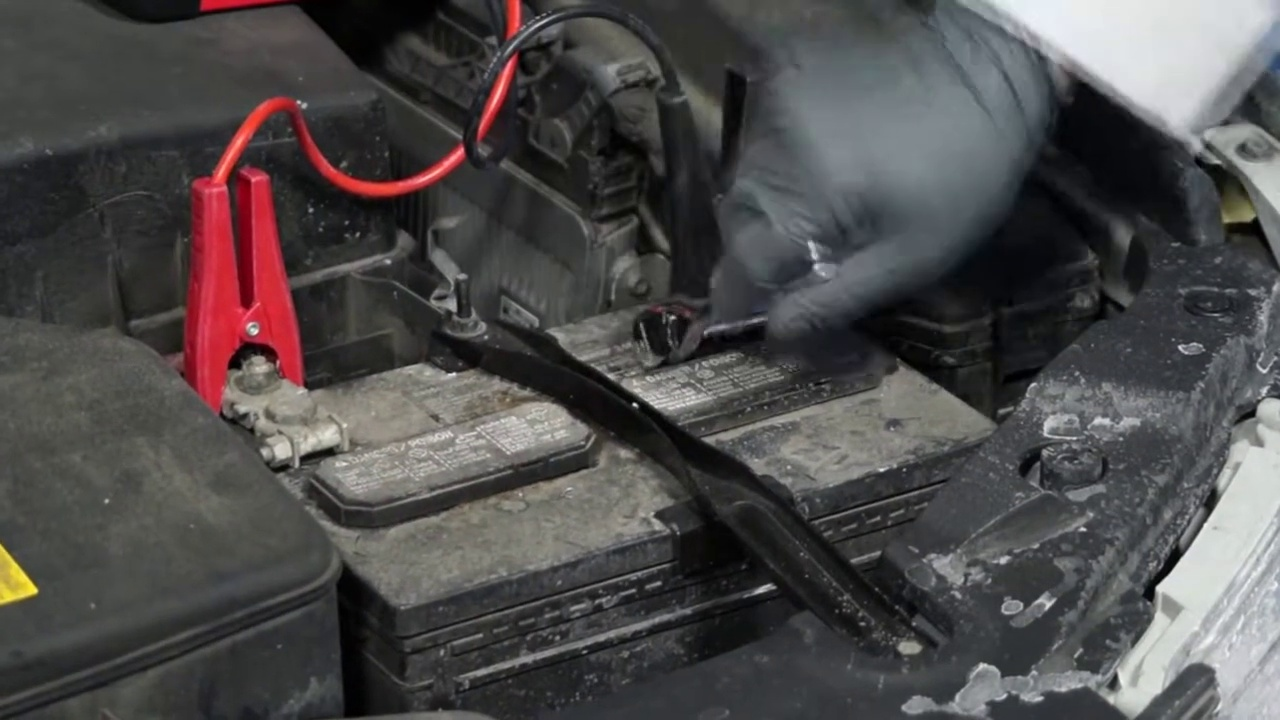battery: (192, 262, 990, 611)
pos_connected: (196, 282, 346, 474)
